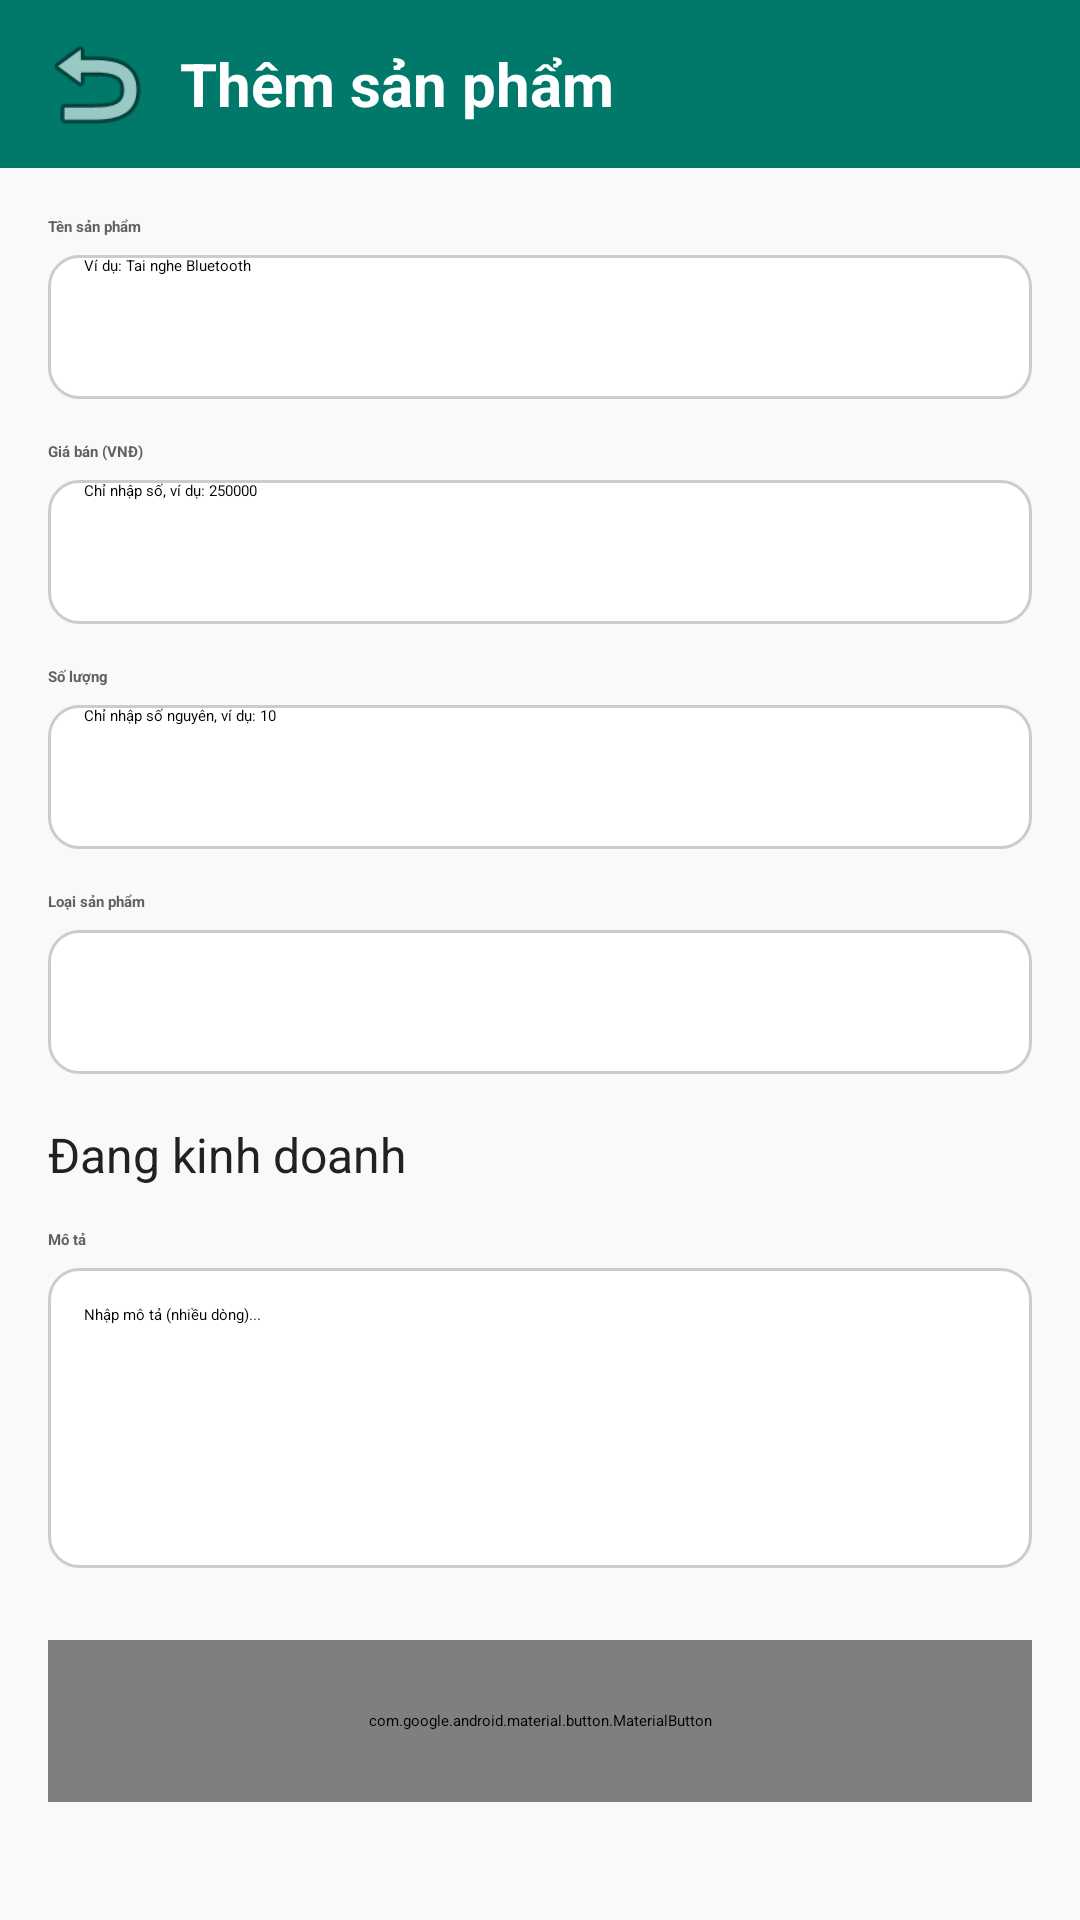

Where to tap for icons on this 1080px x 1920px app screen, as [x,y]:
Quay lại: [97,85]
